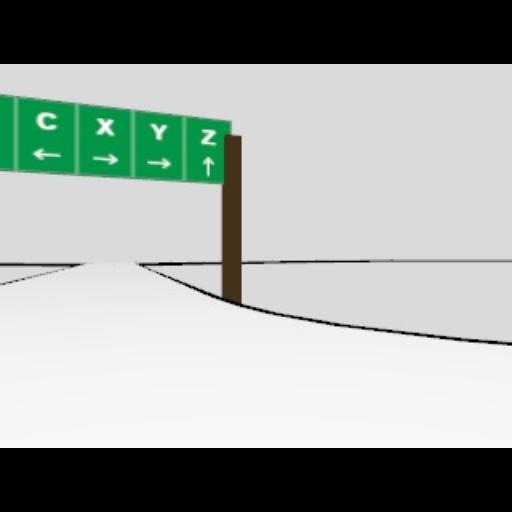C: (35, 110, 57, 130)
Left: (32, 148, 62, 160)
Right: (145, 156, 171, 168), (92, 154, 120, 164)
Straight: (202, 156, 214, 176)
X: (94, 117, 114, 135)
Y: (149, 121, 167, 139)
Z: (198, 128, 216, 146)
